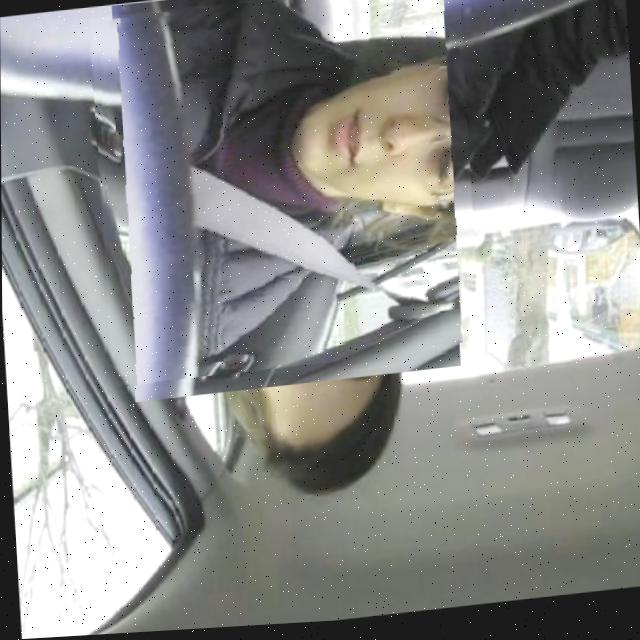seatbelt: (89, 0, 479, 388)
